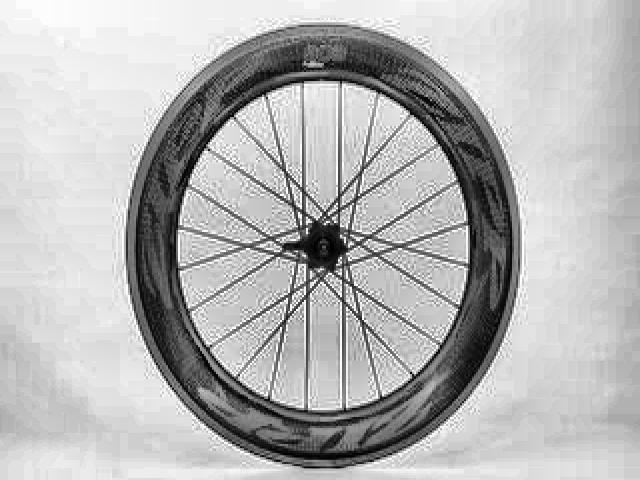wheel: (124, 21, 524, 470)
